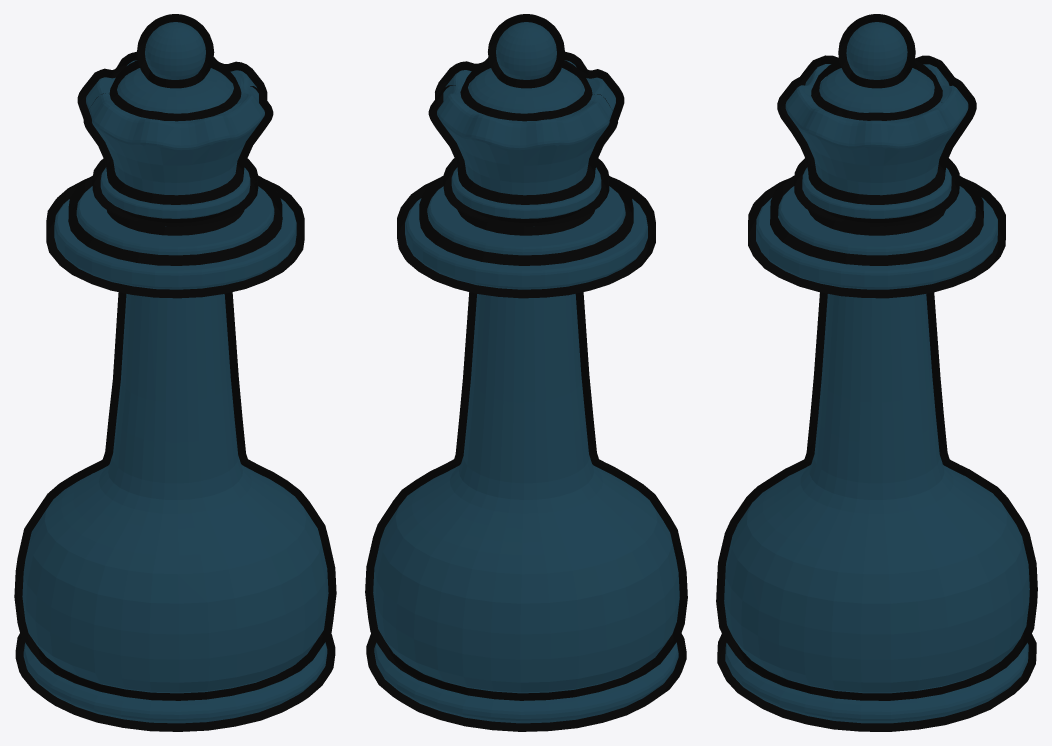
The model's file is cizgi_q_b.glb.
3 renders of one model, left to right at view 1: azimuth 30°, elevation 25°; view 2: azimuth 150°, elevation 25°; view 3: azimuth 270°, elevation 25°, orthographic.
Visible parts, largest first — view 1: Body, Outline; view 2: Body, Outline; view 3: Body, Outline.
Boxes of the visible parts, x1,y1,x2,y2 form: Body: (22, 22, 328, 723); Outline: (14, 14, 336, 731); Body: (373, 22, 679, 723); Outline: (365, 14, 687, 731); Body: (724, 22, 1029, 723); Outline: (716, 14, 1037, 731).
Bounding box in the file's own units: 0.0402 × 0.0898 × 0.0402.
